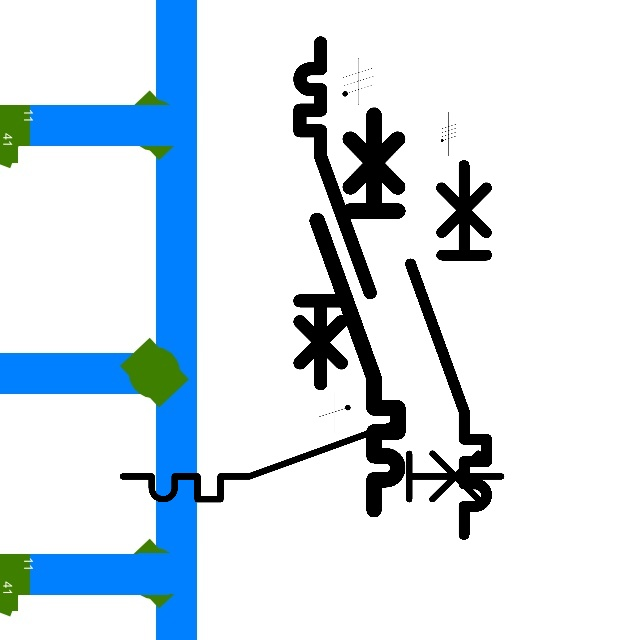interruptor_termomagnetico: (307, 104, 408, 519), (113, 412, 511, 509), (401, 155, 496, 543), (291, 34, 379, 393)
